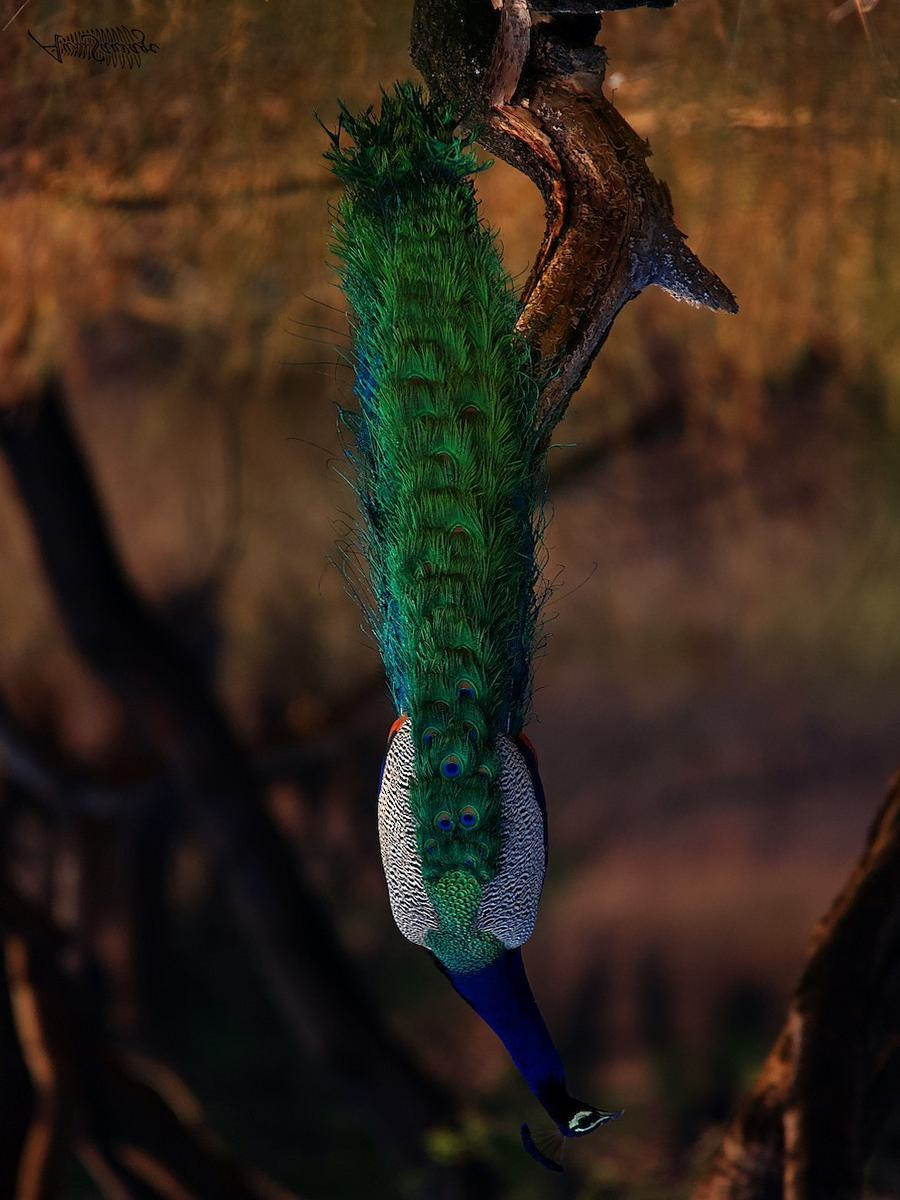peacock: (330, 189, 630, 1147)
